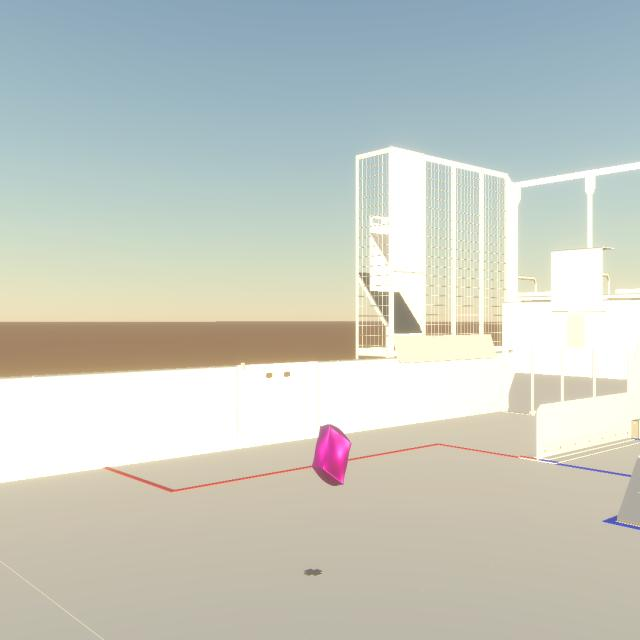frc_cube: (312, 424, 352, 486)
